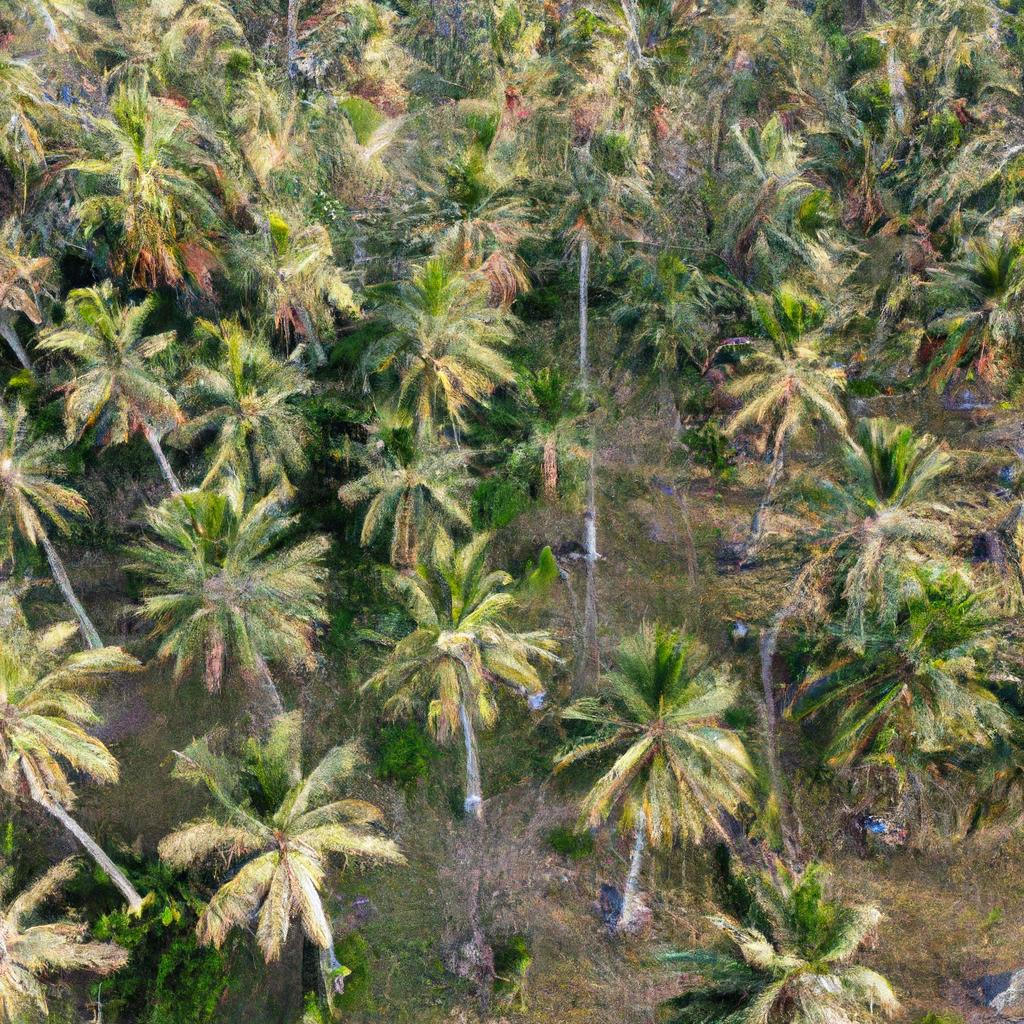coconut_tree: (142, 708, 407, 977), (558, 601, 780, 885), (100, 472, 364, 689), (361, 516, 583, 756), (46, 289, 215, 459), (717, 334, 875, 469)
